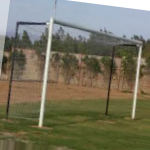goals: (4, 15, 145, 131)
